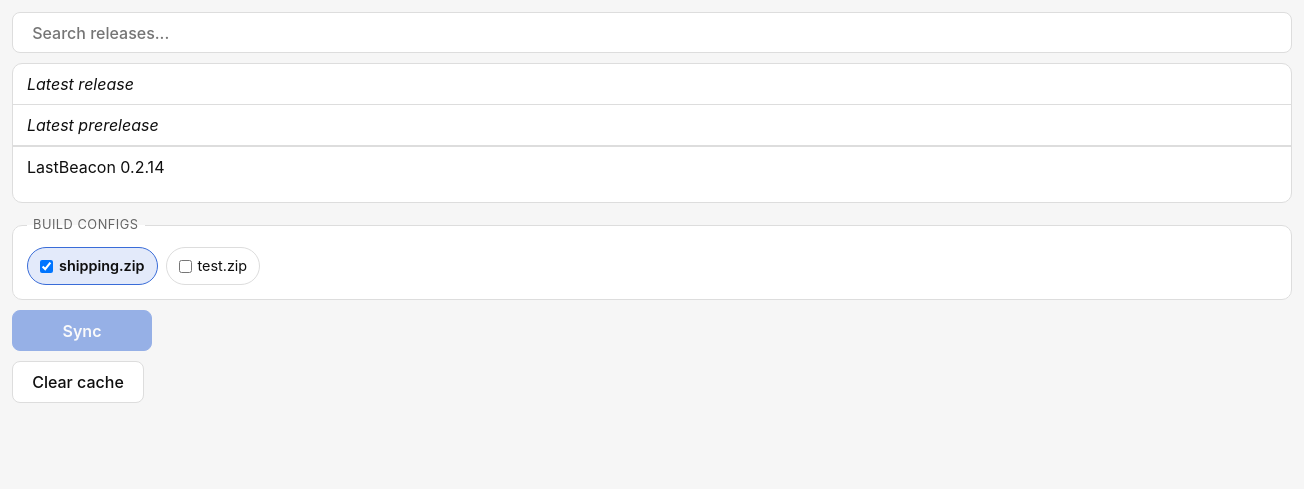
Test: ProjectDetail › selecting Latest prerelease routes through the prerelease channel end to end
This screenshot has width=1304, height=489.
Click the button "Latest prerelease" at [93, 125], box [13,105,1291,147]
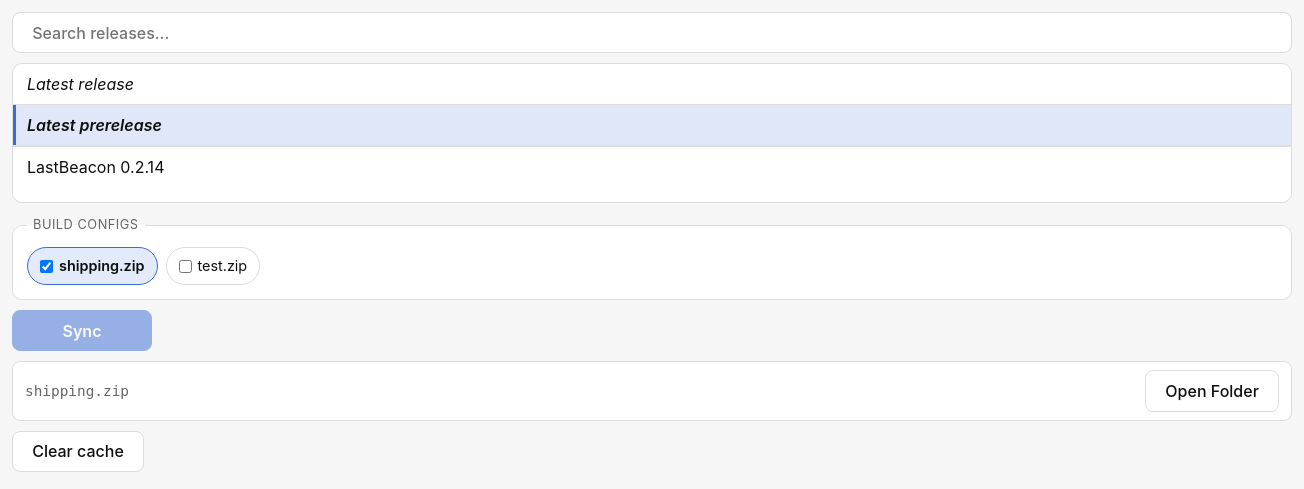
expect the button with aria-label "Open folder for shipping.zip" is shown: met, box [1145,370,1279,412]
